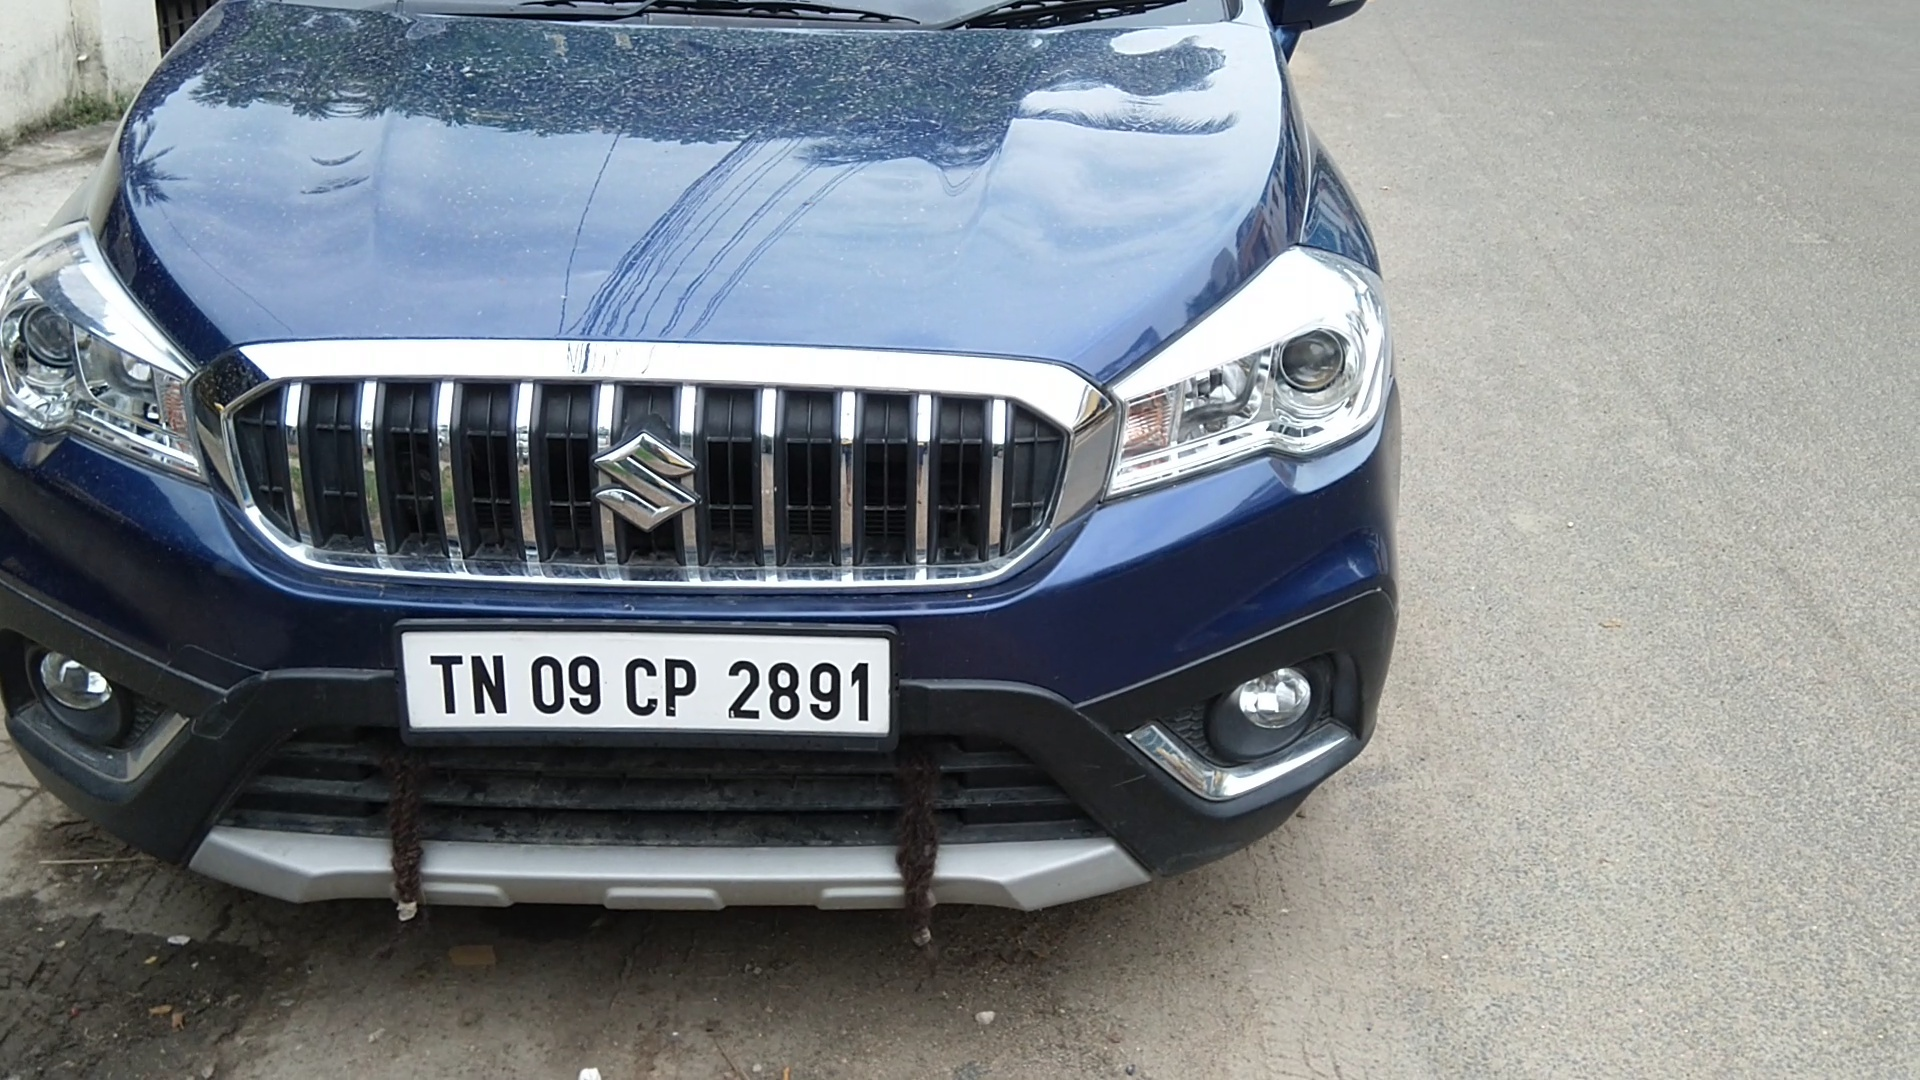front_grill: (194, 322, 1108, 634)
headlamp: (1105, 247, 1411, 505), (3, 204, 194, 487)
